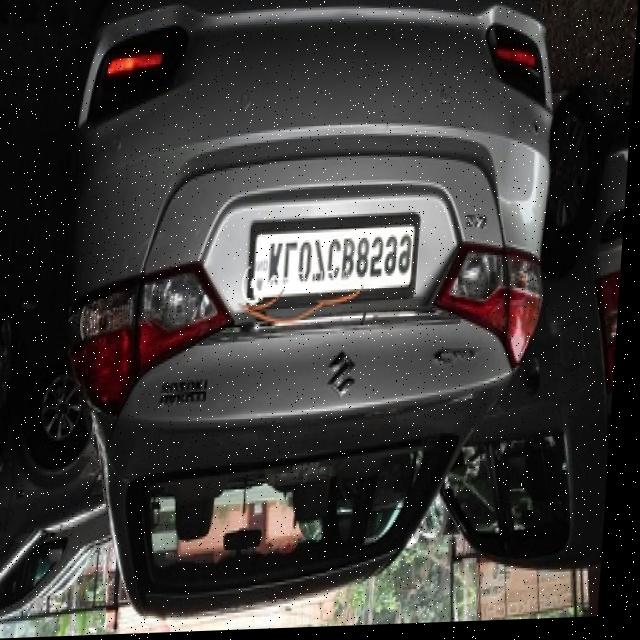plate: (253, 211, 424, 307)
